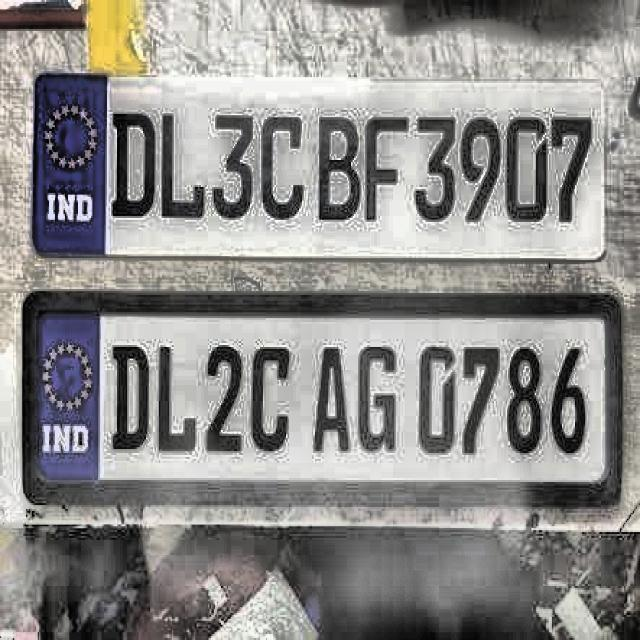license_plate: (25, 298, 613, 500), (33, 74, 606, 258)
